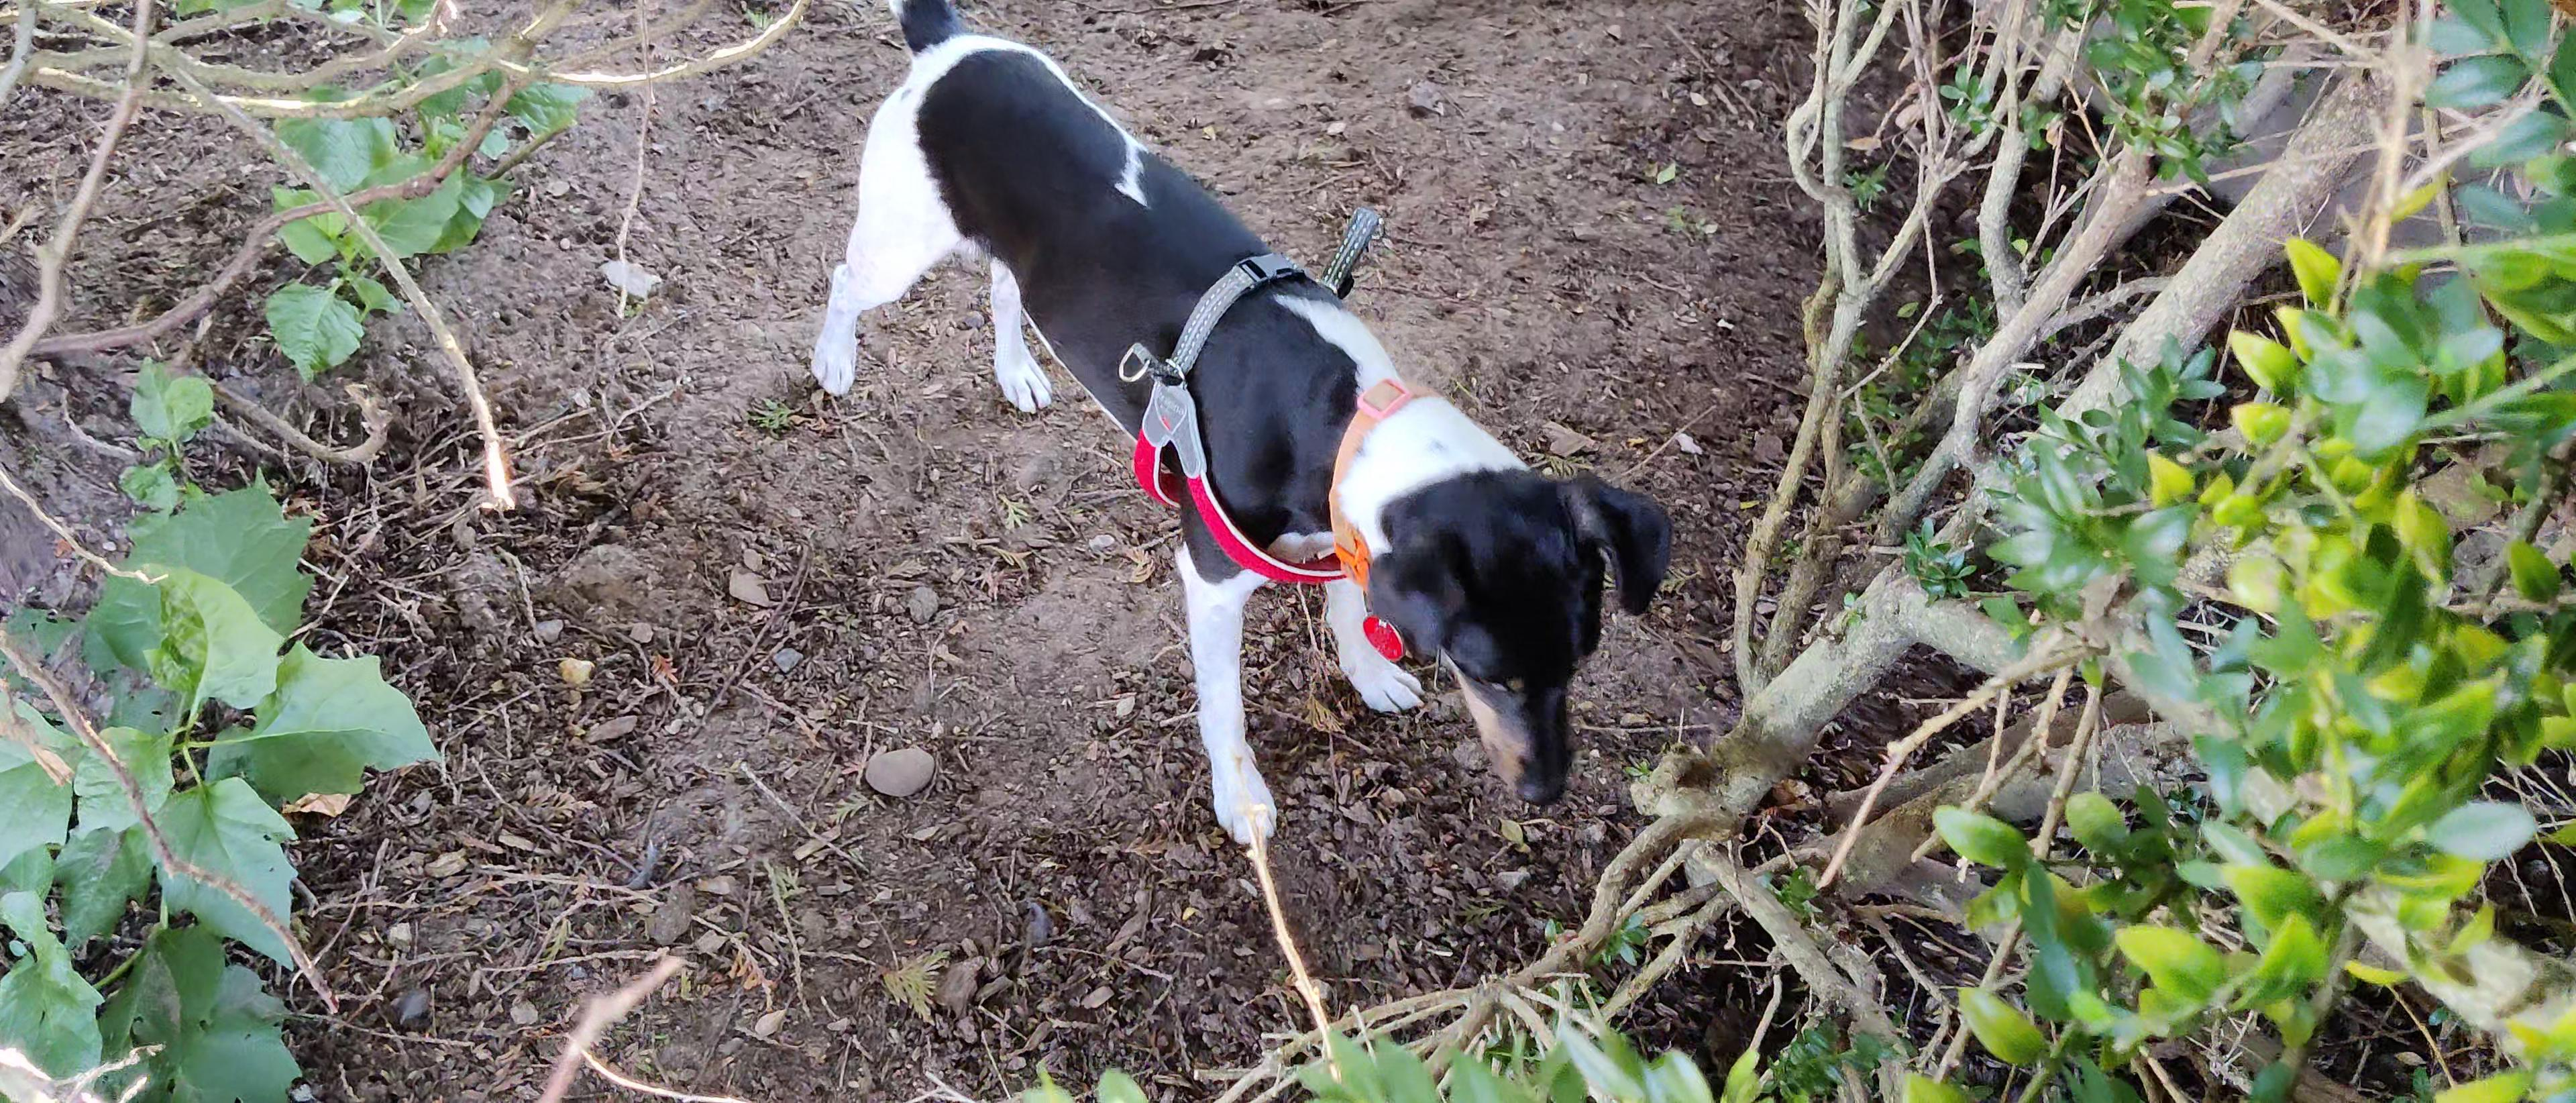Dog: (790, 0, 1690, 861)
